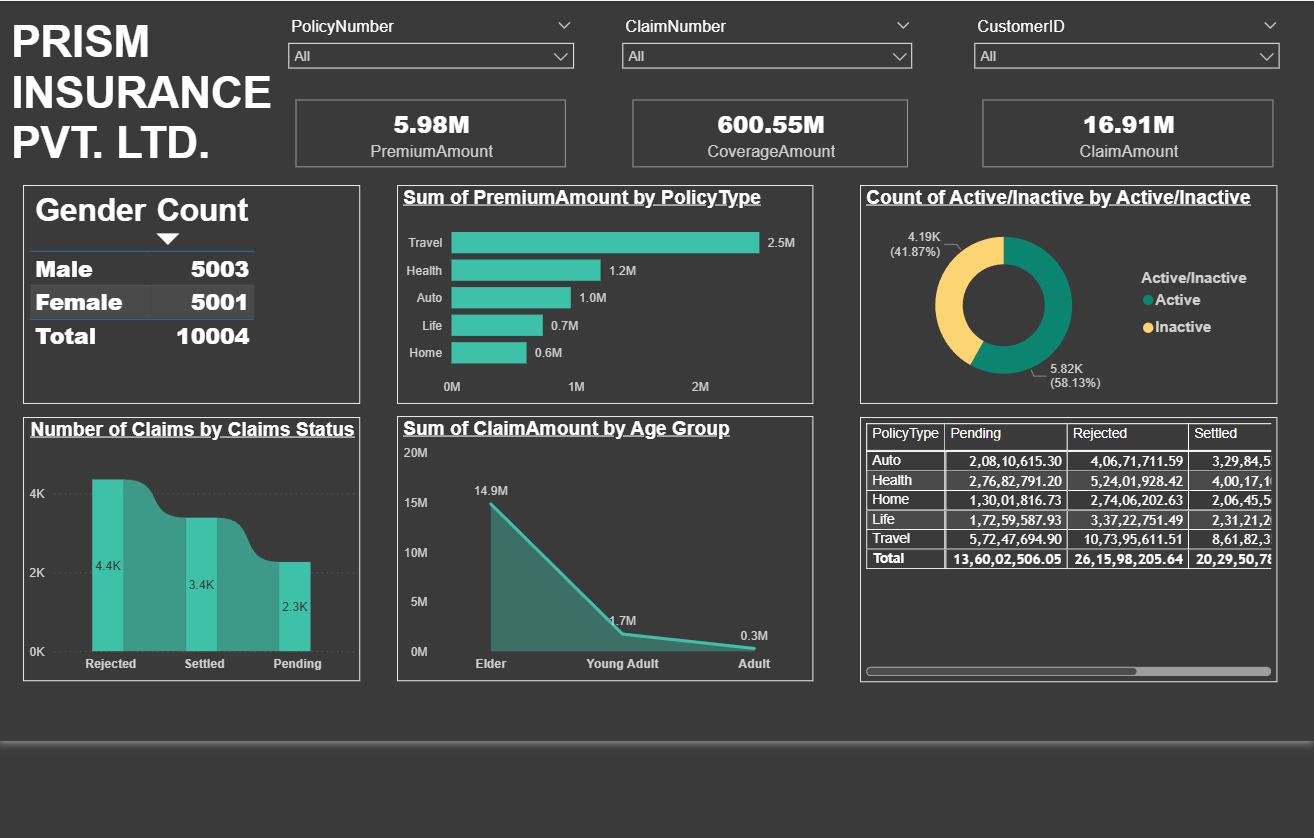

The page's visual inventory and layout, read from the dashboard file:
{"tool":"powerbi","page":{"name":"Page 1","canvas":[1280,720],"ordinal":0},"visuals":[{"type":"slicer","fields":{"Values":["InsuranceData.ClaimNumber"]},"box":[597.2,10.7,302.5,56.4],"z":0},{"type":"slicer","fields":{"Values":["InsuranceData.PolicyNumber"]},"box":[272.3,10.7,297.6,56.4],"z":1000},{"type":"slicer","fields":{"Values":["InsuranceData.CustomerID"]},"box":[939.6,10.7,317.1,56.4],"z":2000},{"type":"textbox","box":[7.8,10.7,264.6,168.3],"z":3000},{"type":"cardVisual","title":"Premium ammount","fields":{"Data":["Sum(InsuranceData.PremiumAmount)"]},"box":[272.3,78.8,297.6,100.2],"z":4000},{"type":"cardVisual","title":"Premium ammount","fields":{"Data":["Sum(InsuranceData.CoverageAmount)"]},"box":[600.1,78.8,302.5,100.2],"z":5000},{"type":"cardVisual","title":"Premium ammount","fields":{"Data":["Sum(InsuranceData.ClaimAmount)"]},"box":[940.5,78.8,317.1,100.2],"z":6000},{"type":"tableEx","fields":{"Values":["InsuranceData.Gender","CountNonNull(InsuranceData.Gender)"]},"box":[24.3,179,327.8,213],"z":7000},{"type":"ribbonChart","title":"Number of Claims by Claims Status","fields":{"Category":["InsuranceData.ClaimStatus"],"Y":["CountNonNull(InsuranceData.ClaimStatus)"]},"box":[24.3,404.6,327.8,256.8],"z":8000},{"type":"barChart","fields":{"Category":["InsuranceData.PolicyType"],"Y":["Sum(InsuranceData.PremiumAmount)"]},"box":[388.1,179,404.6,213],"z":9000},{"type":"lineChart","fields":{"Category":["InsuranceData.Age Group"],"Y":["Sum(InsuranceData.ClaimAmount)"]},"box":[388.3,403.4,404.8,258],"z":10000},{"type":"donutChart","fields":{"Category":["InsuranceData.Active/Inactive"],"Y":["CountNonNull(InsuranceData.Active/Inactive)"]},"box":[838.4,179,405.6,213],"z":11000},{"type":"pivotTable","fields":{"Values":["Sum(InsuranceData.CoverageAmount)"],"Rows":["InsuranceData.PolicyType"],"Columns":["InsuranceData.ClaimStatus"]},"box":[838.4,404.6,405.6,257.8],"z":12000}]}

Visuals, with their boxes in screenshot pixels (x1, y1, x2, y2):
slicer - InsuranceData.ClaimNumber: bbox(611, 31, 918, 88)
slicer - InsuranceData.PolicyNumber: bbox(283, 31, 584, 88)
slicer - InsuranceData.CustomerID: bbox(958, 31, 1279, 88)
textbox: bbox(15, 31, 283, 202)
"Premium ammount" cardVisual: bbox(283, 100, 584, 202)
"Premium ammount" cardVisual: bbox(614, 100, 921, 202)
"Premium ammount" cardVisual: bbox(959, 100, 1280, 202)
tableEx - InsuranceData.Gender x CountNonNull(InsuranceData.Gender): bbox(31, 202, 363, 417)
"Number of Claims by Claims Status" ribbonChart: bbox(31, 430, 363, 690)
barChart - InsuranceData.PolicyType x Sum(InsuranceData.PremiumAmount): bbox(400, 202, 809, 417)
lineChart - InsuranceData.Age Group x Sum(InsuranceData.ClaimAmount): bbox(400, 429, 810, 690)
donutChart - InsuranceData.Active/Inactive x CountNonNull(InsuranceData.Active/Inactive): bbox(856, 202, 1266, 417)
pivotTable - Sum(InsuranceData.CoverageAmount) x InsuranceData.PolicyType: bbox(856, 430, 1266, 691)
